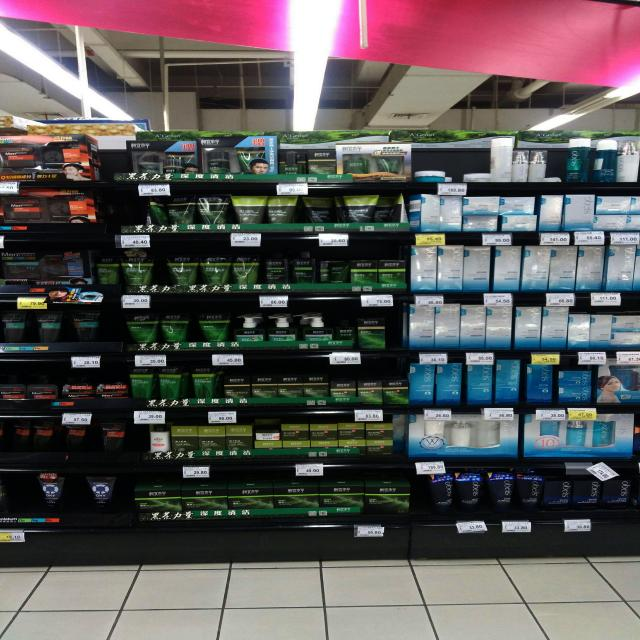empty_space: (59, 481, 92, 514), (7, 484, 42, 512), (113, 195, 143, 227), (100, 311, 123, 340)
